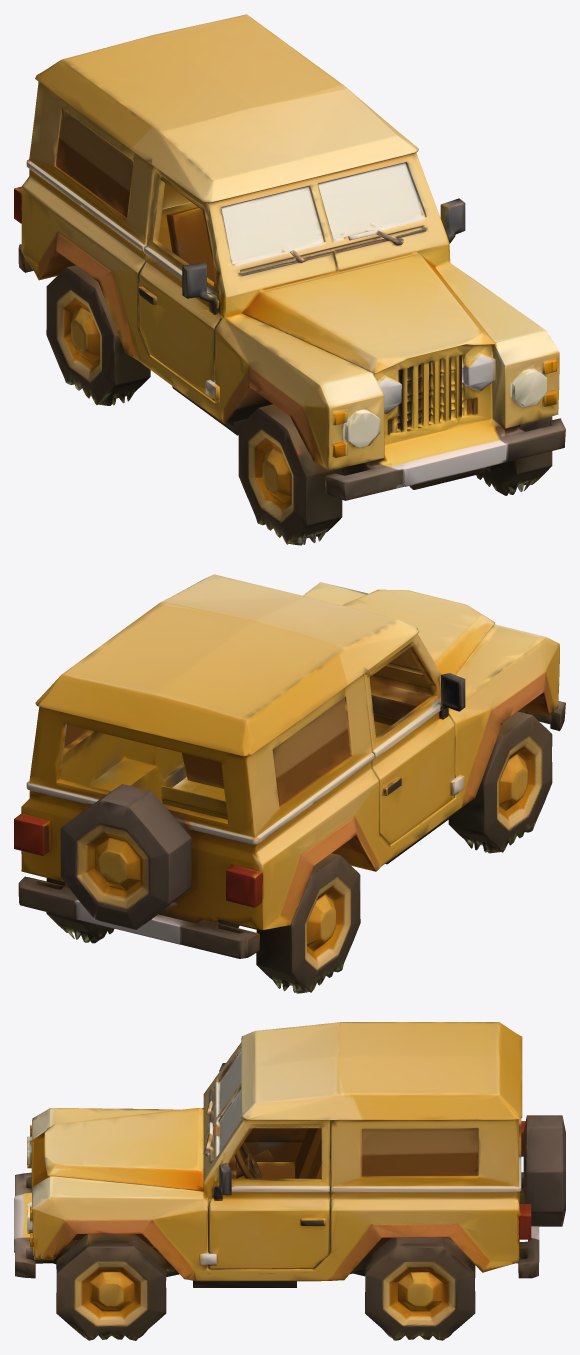
Rendered from car2.fbx.
3 views of the same model, one above another, from view 1: azimuth 30°, elevation 25°; view 2: azimuth 150°, elevation 25°; view 3: azimuth 270°, elevation 25° (orthographic). The views are drawn at different scales.
Parts seen in each view (by area): view 1: node_0; view 2: node_0; view 3: node_0.
Part boxes in pixels (bbox=[...]): node_0: bbox=[14, 14, 565, 545]; node_0: bbox=[14, 574, 565, 993]; node_0: bbox=[14, 1022, 565, 1340].
Bounding box in the file's own units: 51.75 × 52.57 × 110.
